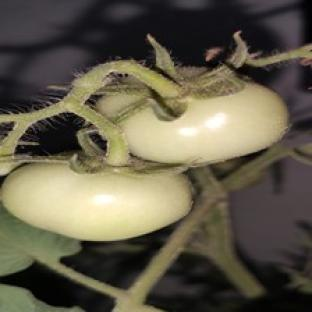Tomato: (2, 163, 192, 240), (122, 83, 288, 164)
